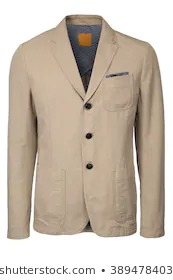F_M_suit jacket: (1, 8, 173, 244)
